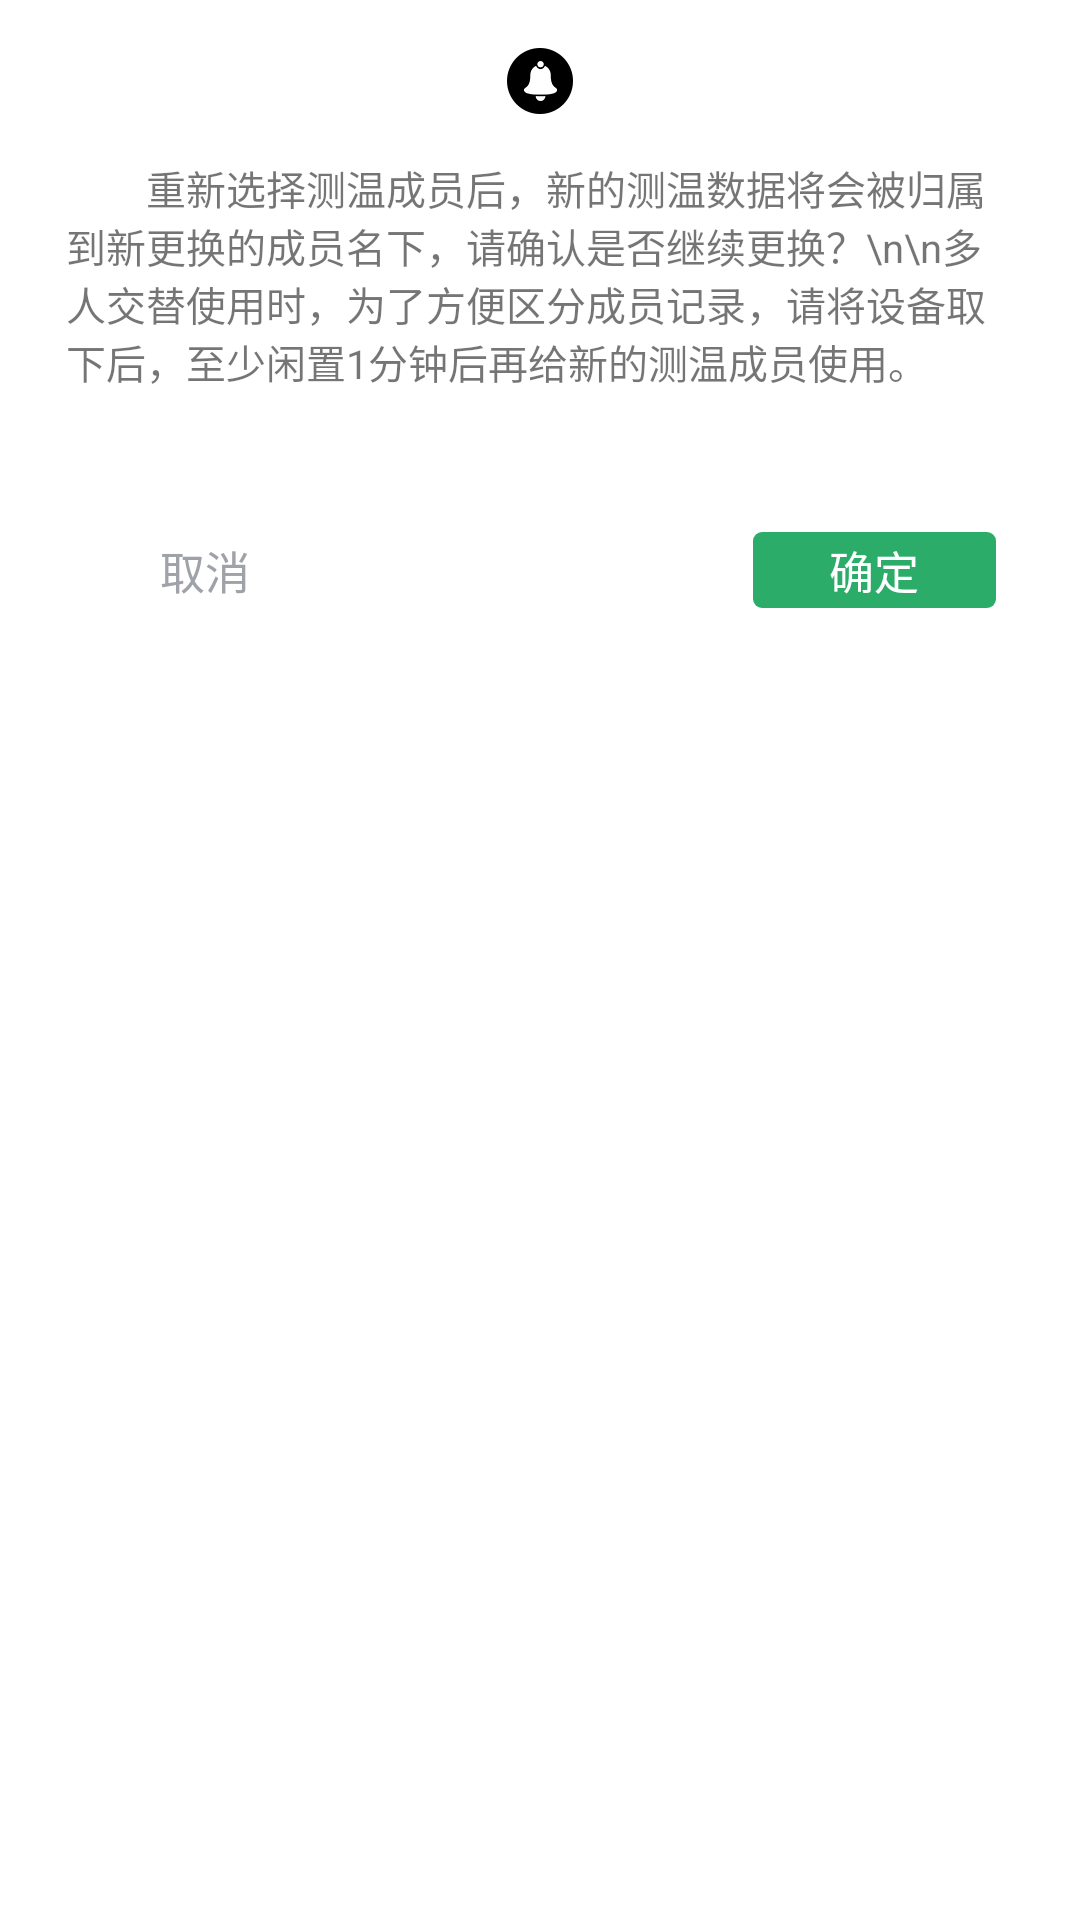

Named icons in this screenshot (1080px×1920px) and their bounding boxes, (x1, y1, x2, y2):
tip: (507, 48, 573, 114)
